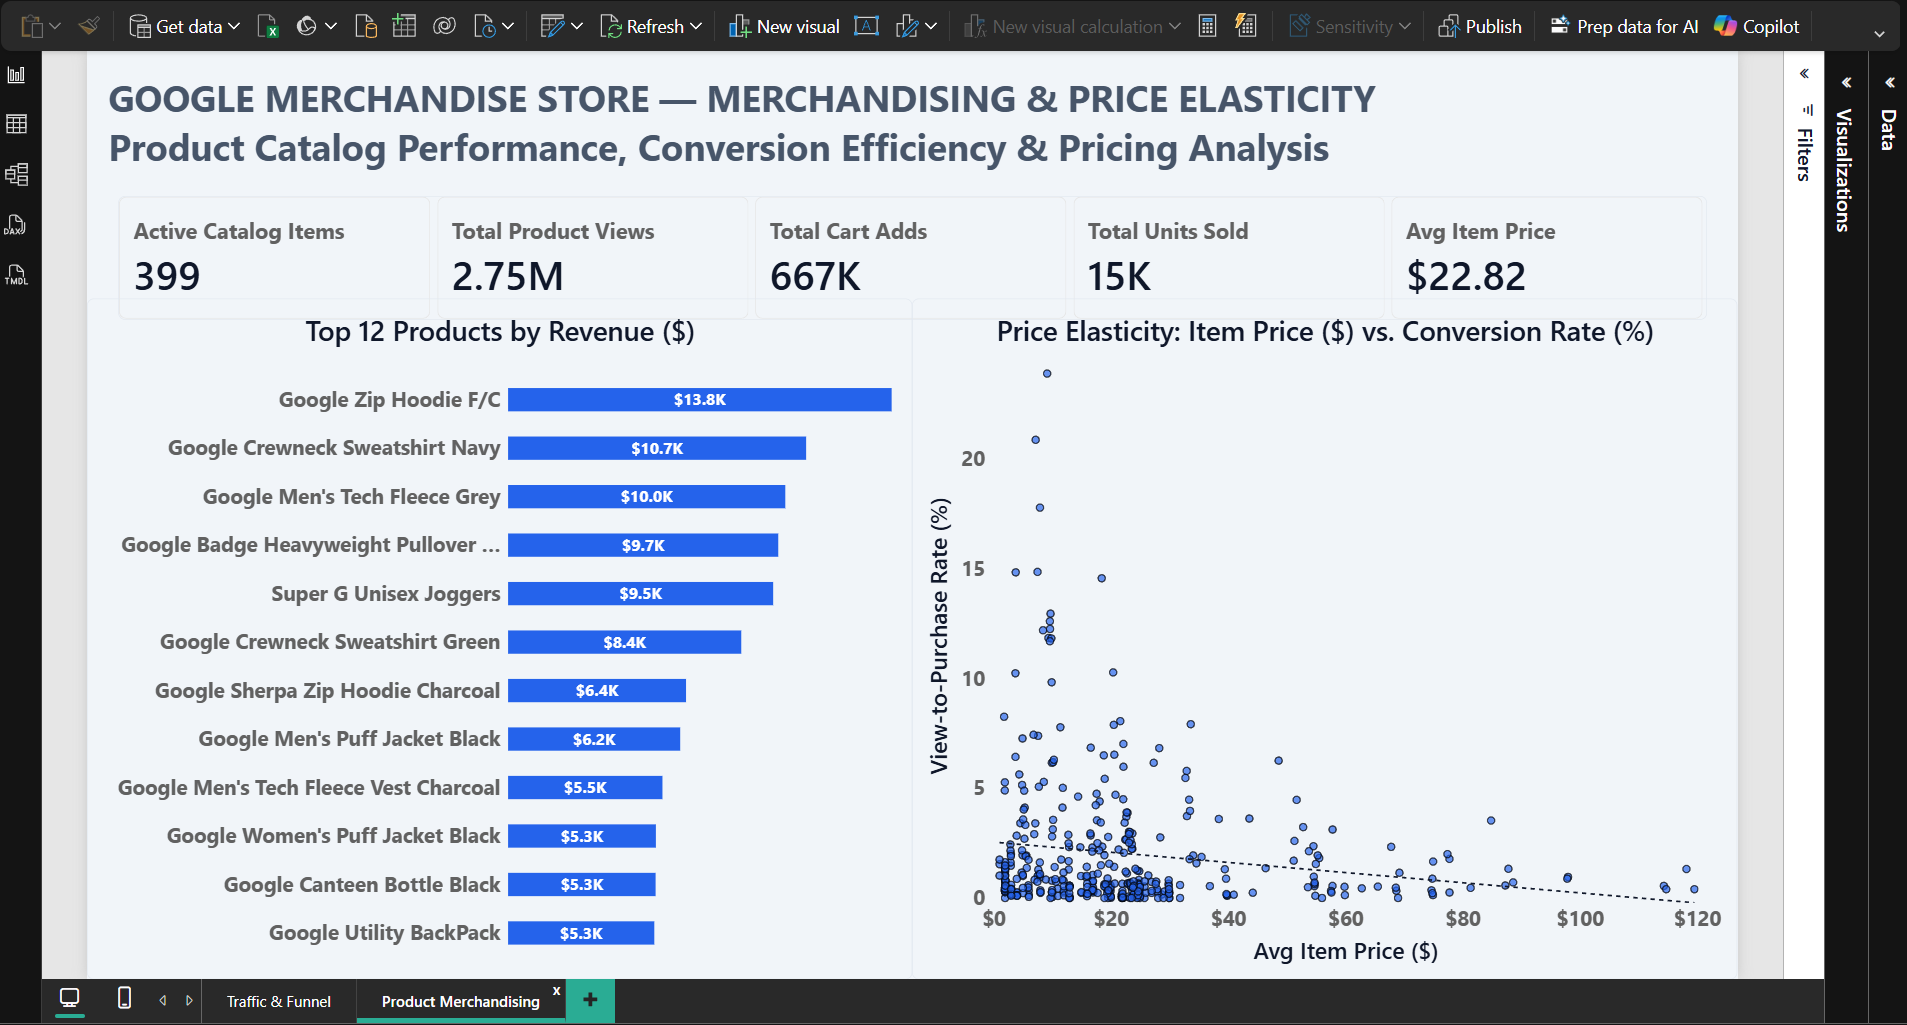

The page's visual inventory and layout, read from the dashboard file:
{"tool":"powerbi","page":{"name":"Product Merchandising","canvas":[1920,1080],"ordinal":1},"visuals":[{"type":"textbox","box":[24,24,1512,120],"z":0},{"type":"cardVisual","fields":{"Data":["Count(product_performance.item_name)","Sum(product_performance.total_views)","Sum(product_performance.total_cart_adds)","Sum(product_performance.total_purchases)","Avg(product_performance.avg_price)"]},"box":[36,168,1848,144],"z":1000},{"type":"clusteredBarChart","title":"Top 12 Products by Revenue ($)","fields":{"Category":["product_performance.item_name"],"Y":["Sum(product_performance.total_revenue)"]},"box":[0,288,960,792],"z":2000},{"type":"scatterChart","title":"Price Elasticity: Item Price ($) vs. Conversion Rate (%)","fields":{"Category":["product_performance.item_name"],"X":["Avg(product_performance.avg_price)"],"Y":["Avg(product_performance.view_to_purchase_rate_pct)"]},"box":[960,288,960,792],"z":3000}]}

Visuals, with their boxes on the page's 1920x1080 design canvas (x1, y1, x2, y2). These are canvas units, not pixel positions in the 1907x1025 screenshot, which may show the page scaled, cropped or inside an application window:
textbox: select_region(24, 24, 1536, 144)
cardVisual - Count(product_performance.item_name) x Sum(product_performance.total_views): select_region(36, 168, 1884, 312)
"Top 12 Products by Revenue ($)" clusteredBarChart: select_region(0, 288, 960, 1080)
"Price Elasticity: Item Price ($) vs. Conversion Rate (%)" scatterChart: select_region(960, 288, 1920, 1080)
